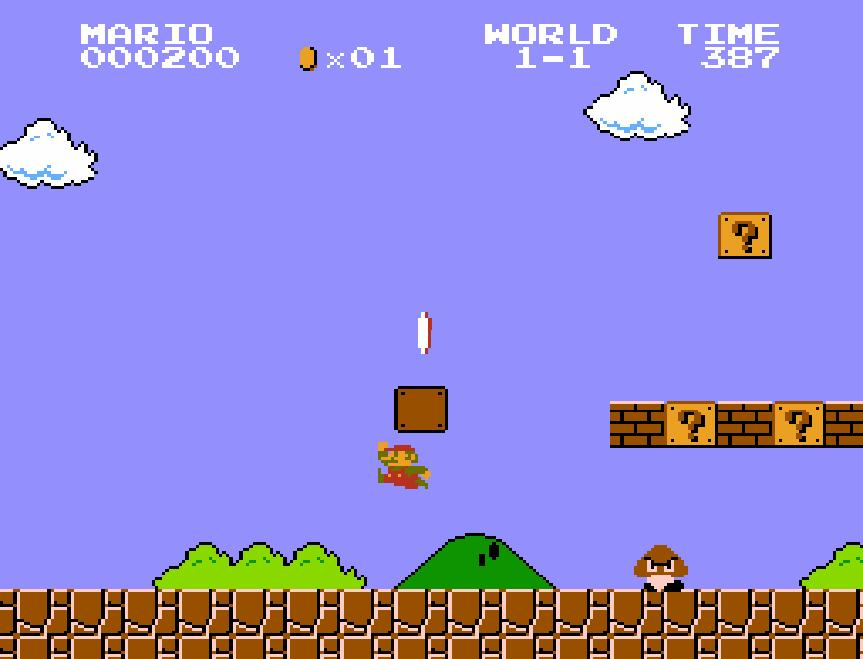little_mario: (376, 440, 434, 490)
